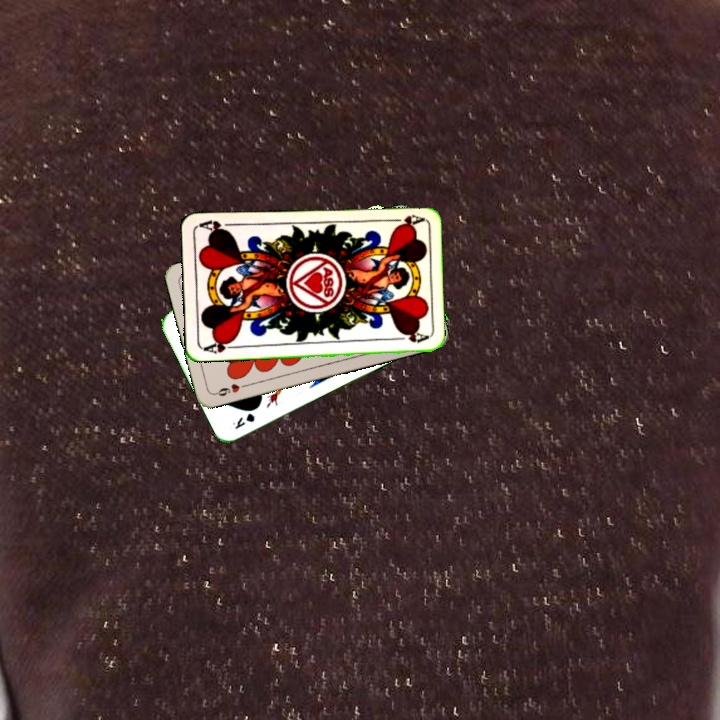GK: (228, 409, 257, 432)
H9: (210, 379, 250, 399)
HA: (200, 336, 240, 356), (385, 210, 425, 230)
